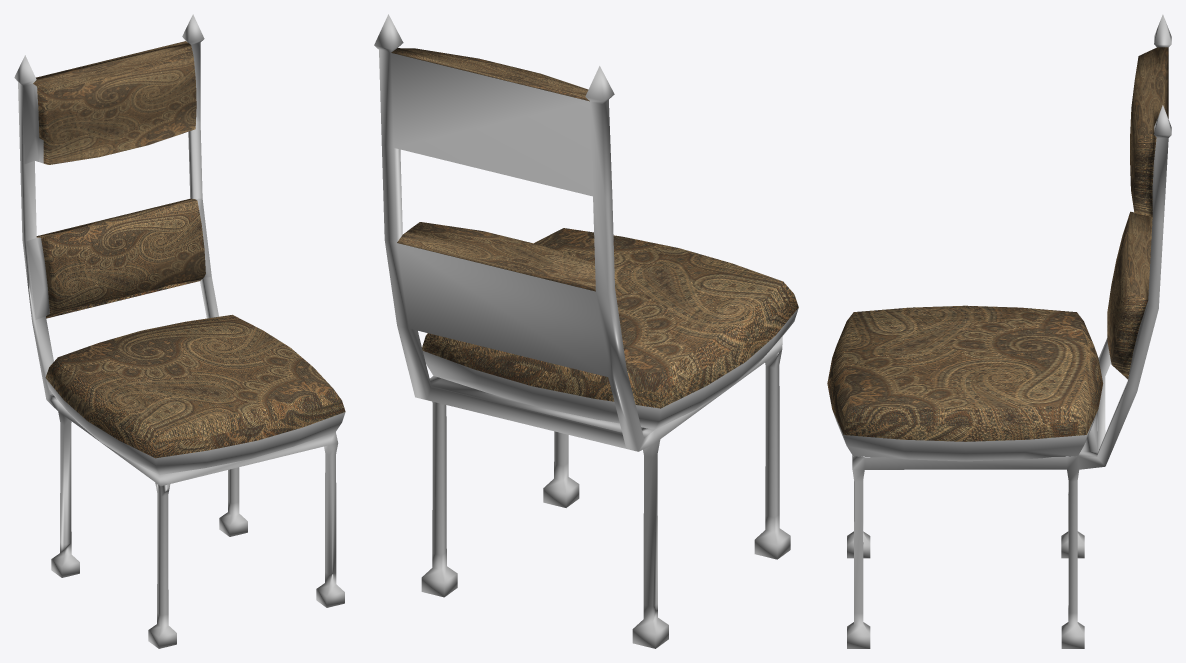
File: Armchair.fbx
3 views of the same model, side by side, from view 1: azimuth 30°, elevation 25°; view 2: azimuth 150°, elevation 25°; view 3: azimuth 270°, elevation 25° (orthographic). The views are drawn at different scales.
Parts seen in each view (by area): view 1: Armchair; view 2: Armchair; view 3: Armchair.
Boxes of the visible parts, x1,y1,x2,y2 form: Armchair: [14, 14, 345, 648]; Armchair: [374, 14, 798, 648]; Armchair: [827, 14, 1171, 648].
Bounding box in the file's own units: 2.47 × 5.33 × 3.08.
